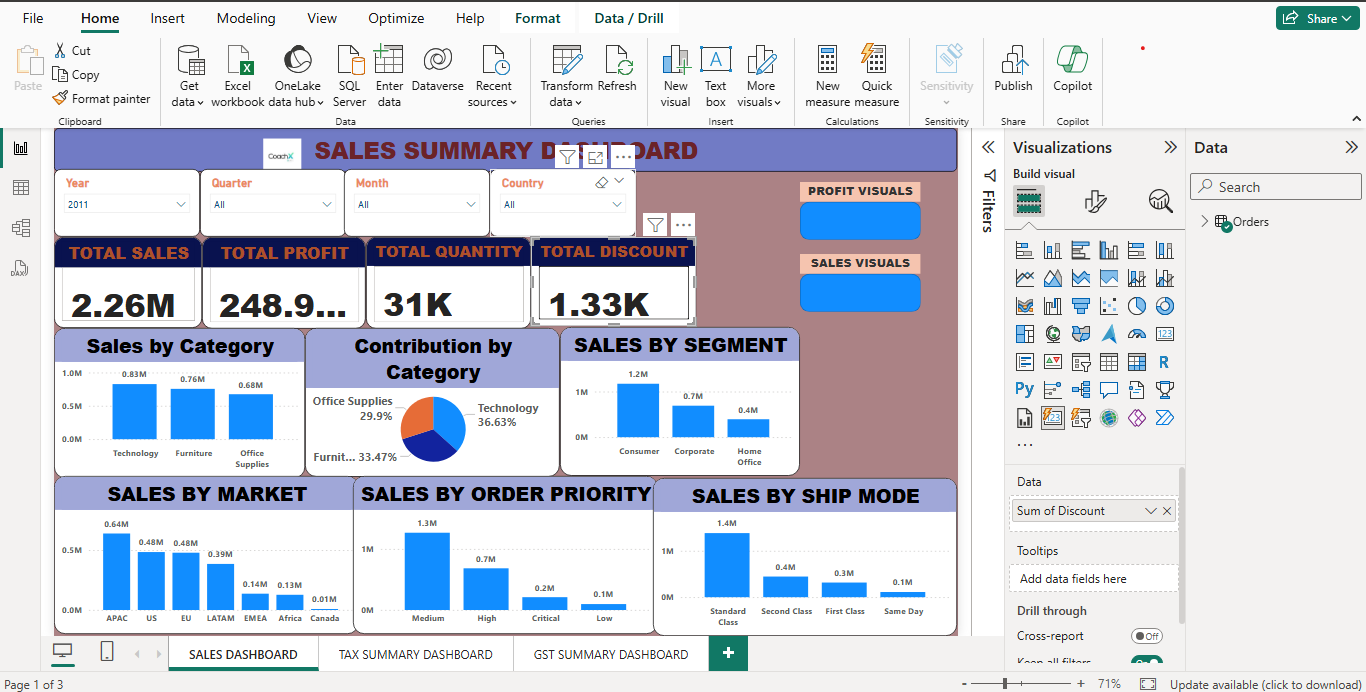

The page's visual inventory and layout, read from the dashboard file:
{"tool":"powerbi","page":{"name":"SALES DASHBOARD","canvas":[1280,720],"ordinal":0},"visuals":[{"type":"textbox","box":[0,0,1279.8,62.4],"z":0},{"type":"image","box":[290.6,9.9,65.2,63.8],"z":1000},{"type":"cardVisual","title":"TOTAL SALES","fields":{"Data":["Orders.Sales"]},"box":[0,154.5,209.8,129],"z":2000},{"type":"cardVisual","title":"TOTAL PROFIT","fields":{"Data":["Orders.Profit"]},"box":[209.8,154.5,232.4,130.4],"z":3000},{"type":"cardVisual","title":"TOTAL QUANTITY","fields":{"Data":["Orders.Quantity"]},"box":[442.2,154.5,233.9,130.4],"z":4000},{"type":"cardVisual","title":"TOTAL DISCOUNT","fields":{"Data":["Orders.Discount"]},"box":[676.1,158.7,233.9,126.1],"z":5000},{"type":"clusteredColumnChart","title":"Sales by Category","fields":{"Category":["Orders.Category"],"Y":["Orders.Sales"]},"box":[0,283.5,355.7,212.6],"z":6000},{"type":"pieChart","title":"Contribution by Category","fields":{"Category":["Orders.Category"],"Y":["Orders.Sales"]},"box":[355.7,283.5,361.4,211.2],"z":7000},{"type":"clusteredColumnChart","title":"SALES BY SEGMENT","fields":{"Y":["Orders.Sales"],"Category":["Orders.Segment"]},"box":[717.2,282,340.2,211.2],"z":8000},{"type":"clusteredColumnChart","title":"SALES BY MARKET","fields":{"Category":["Orders.Market"],"Y":["Orders.Sales"]},"box":[0,493.2,432.3,223.9],"z":9000},{"type":"clusteredColumnChart","title":"SALES BY ORDER PRIORITY","fields":{"Category":["Orders.Order Priority"],"Y":["Orders.Sales"]},"box":[423.8,493.2,432.3,223.9],"z":10000},{"type":"clusteredColumnChart","title":"SALES BY SHIP MODE","fields":{"Category":["Orders.Ship Mode"],"Y":["Orders.Sales"]},"box":[849,496.1,430.9,223.9],"z":11000},{"type":"slicer","fields":{"Values":["Orders.Order Date.Variation.Date Hierarchy.Year"]},"box":[0,58.1,206.9,96.4],"z":12000},{"type":"slicer","fields":{"Values":["Orders.Order Date.Variation.Date Hierarchy.Quarter"]},"box":[206.9,58.1,206.9,96.4],"z":13000},{"type":"slicer","fields":{"Values":["Orders.Order Date.Variation.Date Hierarchy.Month"]},"box":[411,58.1,206.9,96.4],"z":14000},{"type":"slicer","fields":{"Values":["Orders.Country"]},"box":[618,58.1,206.9,96.4],"z":15000},{"type":"shape","title":"PROFIT VISUALS","box":[1057.3,76.5,171.5,82.2],"z":22002},{"type":"shape","title":"SALES VISUALS","box":[1057.3,178.6,171.5,82.2],"z":22003}]}

Visuals, with their boxes on the page's 1280x720 design canvas (x1, y1, x2, y2). These are canvas units, not pixel positions in the 1366x692 screenshot, which may show the page scaled, cropped or inside an application window:
textbox: 0:0:1280:62
image: 291:10:356:74
"TOTAL SALES" cardVisual: 0:154:210:284
"TOTAL PROFIT" cardVisual: 210:154:442:285
"TOTAL QUANTITY" cardVisual: 442:154:676:285
"TOTAL DISCOUNT" cardVisual: 676:159:910:285
"Sales by Category" clusteredColumnChart: 0:284:356:496
"Contribution by Category" pieChart: 356:284:717:495
"SALES BY SEGMENT" clusteredColumnChart: 717:282:1057:493
"SALES BY MARKET" clusteredColumnChart: 0:493:432:717
"SALES BY ORDER PRIORITY" clusteredColumnChart: 424:493:856:717
"SALES BY SHIP MODE" clusteredColumnChart: 849:496:1280:720
slicer - Orders.Order Date.Variation.Date Hierarchy.Year: 0:58:207:154
slicer - Orders.Order Date.Variation.Date Hierarchy.Quarter: 207:58:414:154
slicer - Orders.Order Date.Variation.Date Hierarchy.Month: 411:58:618:154
slicer - Orders.Country: 618:58:825:154
"PROFIT VISUALS" shape: 1057:76:1229:159
"SALES VISUALS" shape: 1057:179:1229:261
